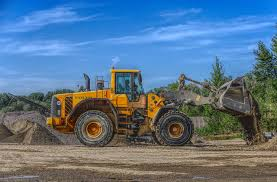excavator: (49, 68, 268, 151)
